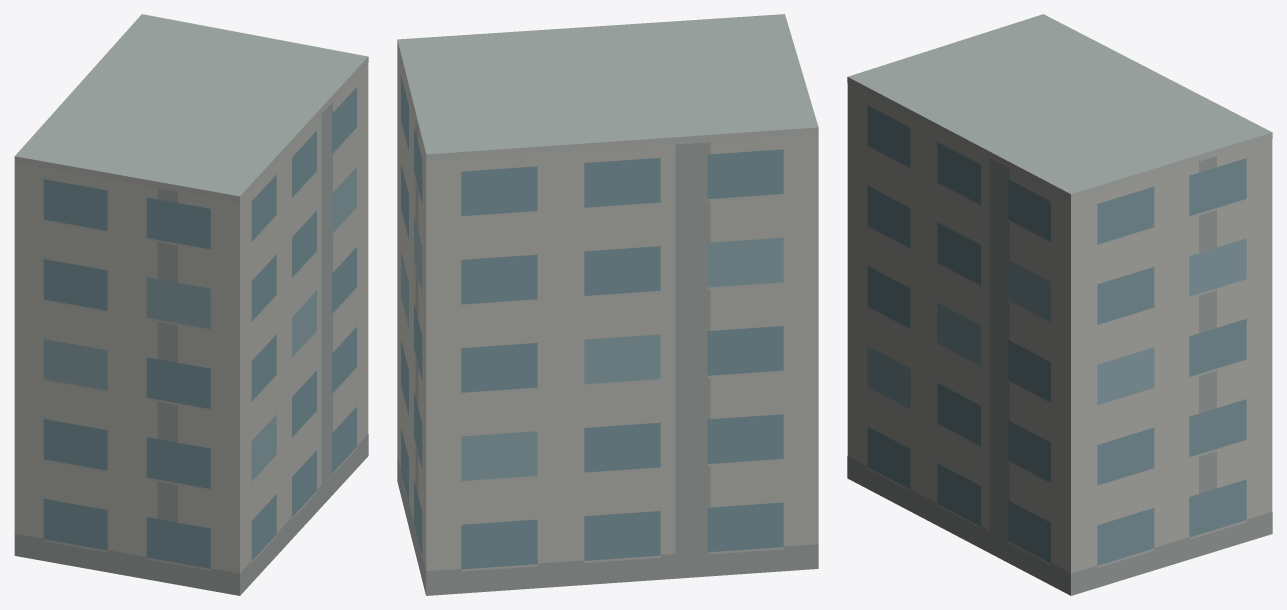
File: survey-upis-32766554.glb
3 views of the same model, side by side, from view 1: azimuth 30°, elevation 25°; view 2: azimuth 150°, elevation 25°; view 3: azimuth 270°, elevation 25° (orthographic). The views are drawn at different scales.
Visible parts, largest first — view 1: survey-upis-32766554.tmp; view 2: survey-upis-32766554.tmp; view 3: survey-upis-32766554.tmp.
Boxes of the visible parts, box(x1,y1,x2,y2) form: survey-upis-32766554.tmp: box(14, 14, 368, 595); survey-upis-32766554.tmp: box(397, 14, 818, 595); survey-upis-32766554.tmp: box(847, 14, 1272, 595).
Bounding box in the file's own units: 14.16 × 14.7 × 14.1.
